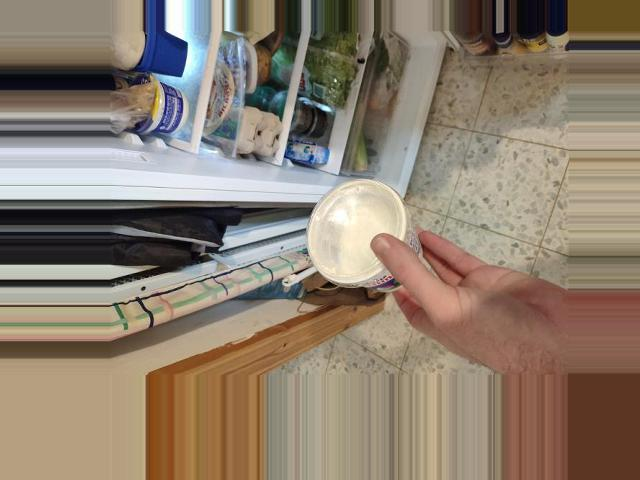cotage: (295, 188, 409, 300)
